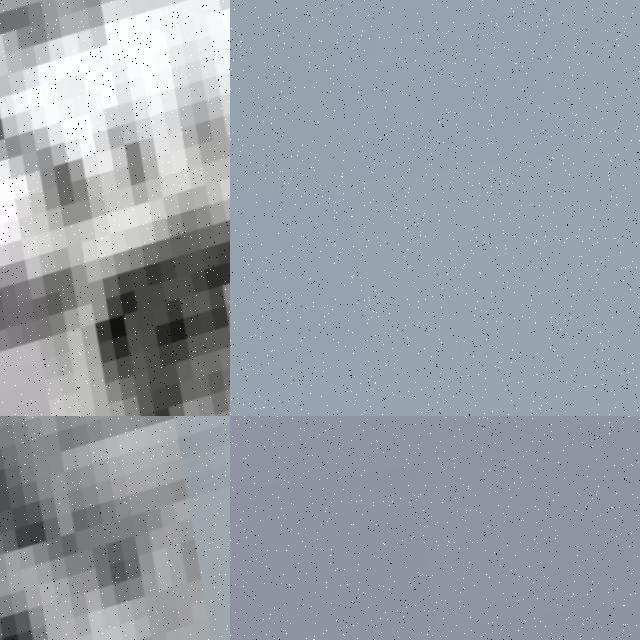drone: (0, 0, 230, 416), (0, 416, 230, 640)
